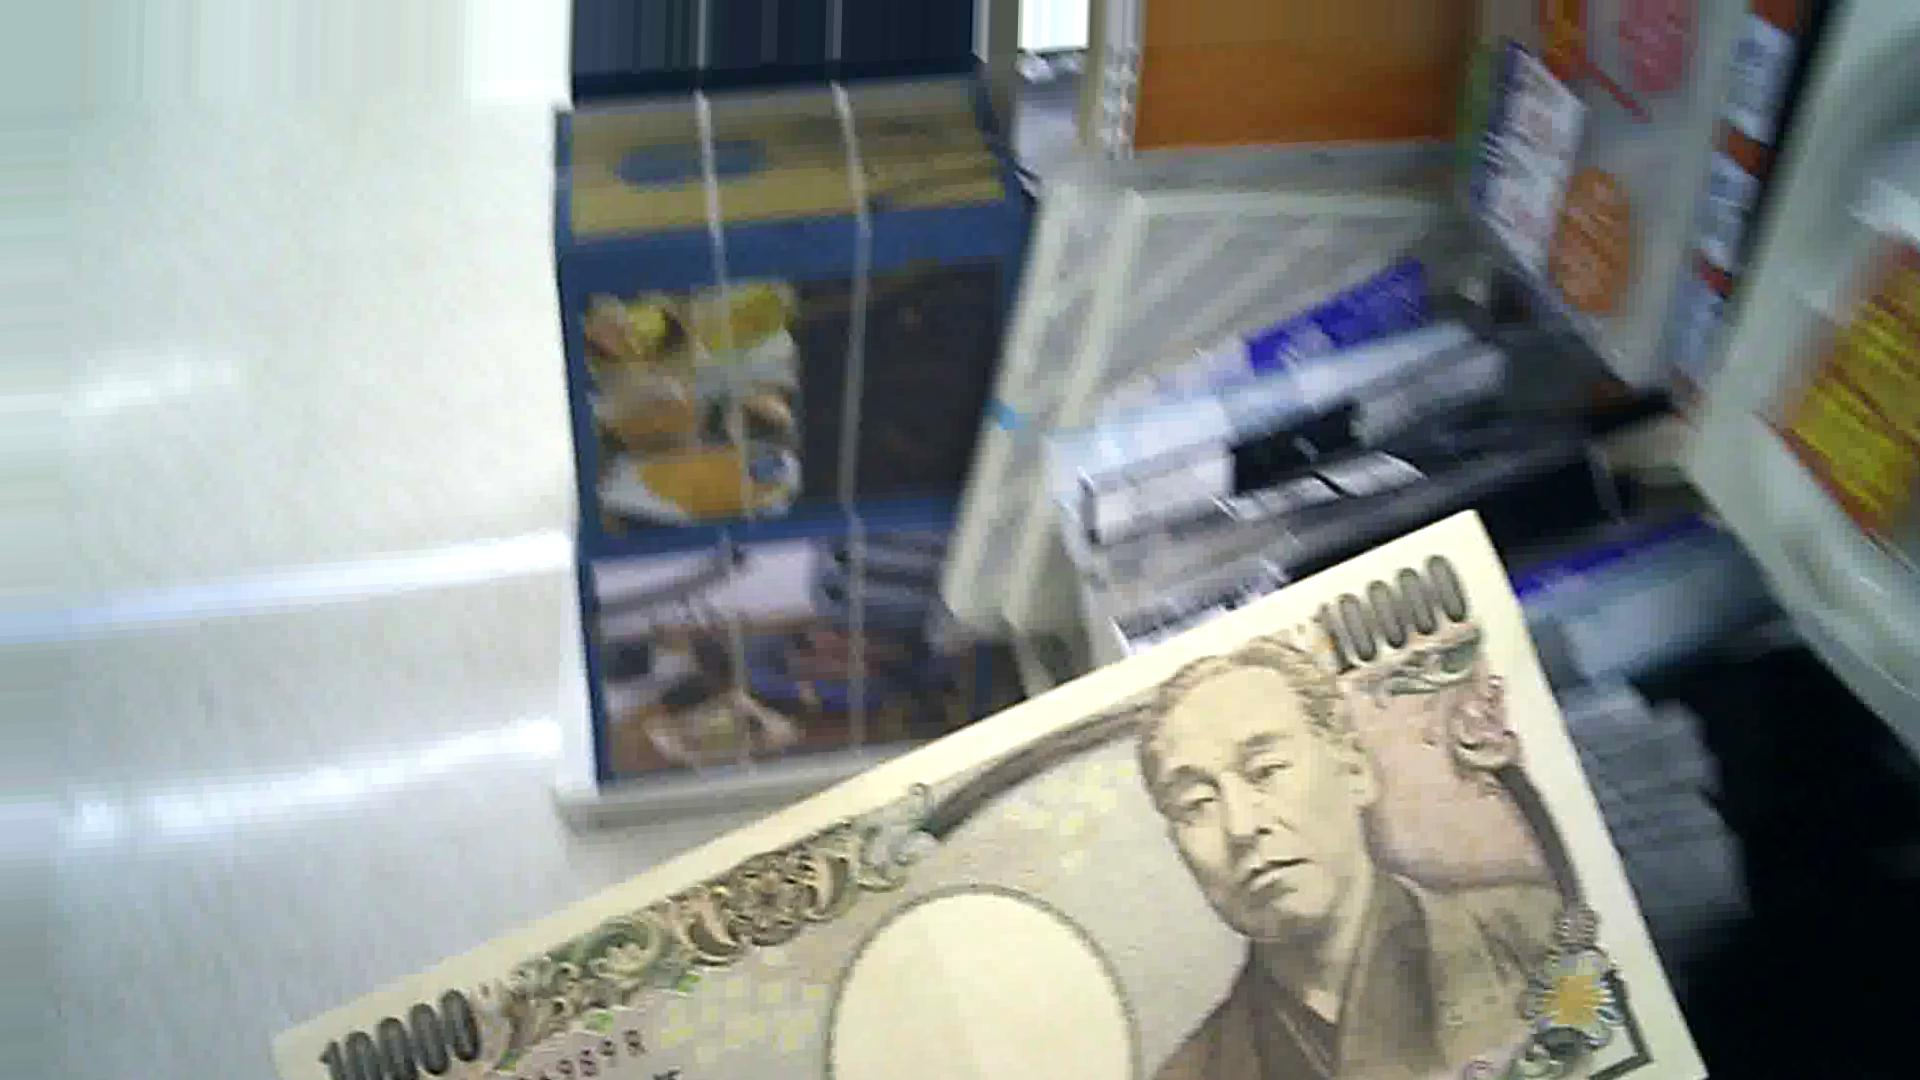10,000 Yen: (207, 483, 1722, 1073)
